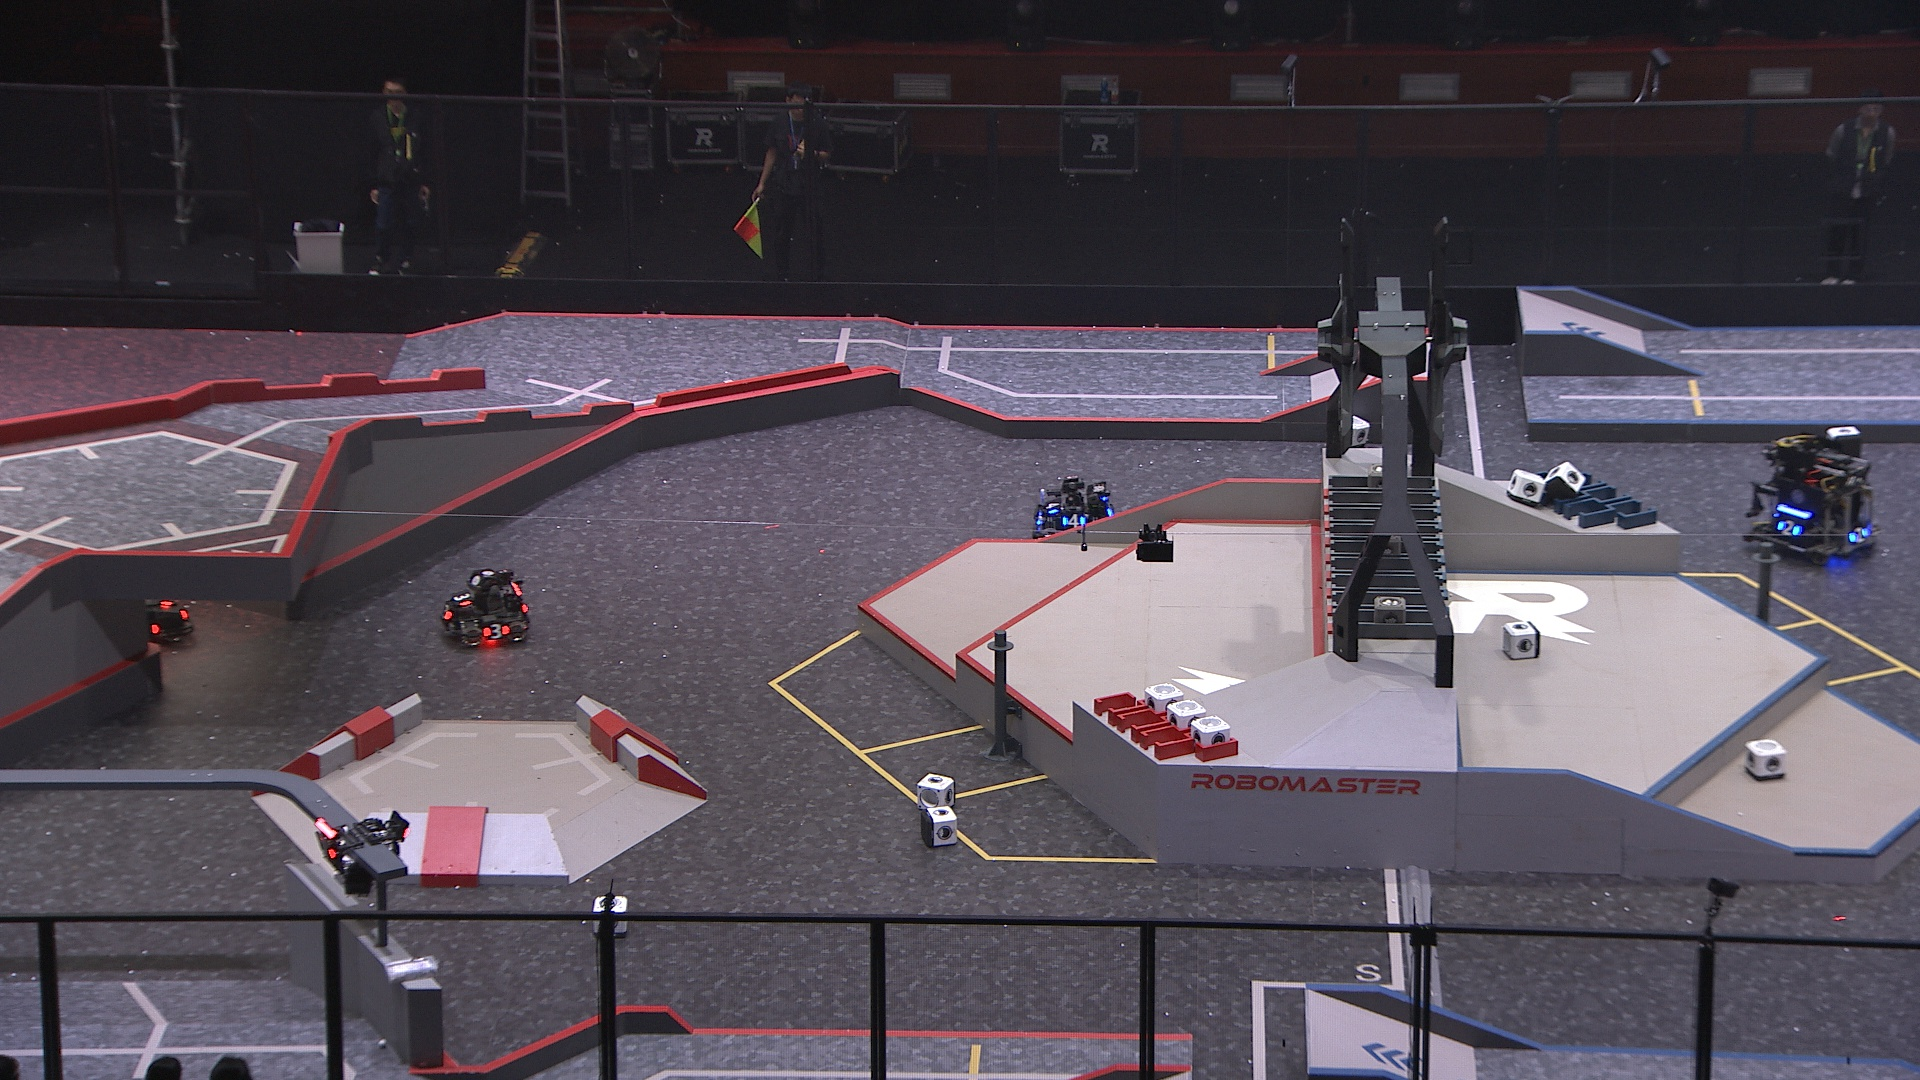armor: (1774, 518, 1801, 538), (311, 835, 334, 858), (483, 622, 509, 641), (1059, 510, 1087, 527), (1043, 498, 1062, 518), (1851, 526, 1870, 546), (436, 603, 452, 624), (1031, 506, 1044, 529), (451, 589, 467, 607)
car: (1743, 431, 1883, 570), (430, 564, 534, 650), (107, 564, 196, 646), (1029, 473, 1116, 547)
watcher: (309, 811, 407, 894)
